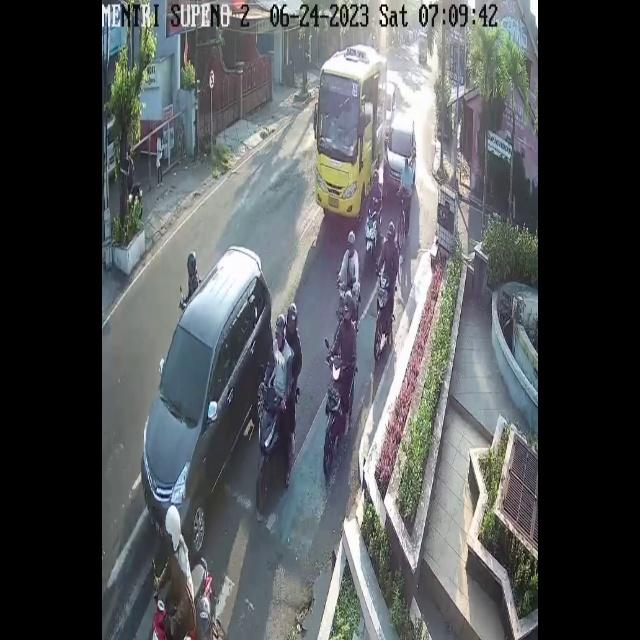bus: (144, 555, 219, 640), (254, 383, 300, 504), (323, 354, 354, 476), (375, 274, 394, 361), (334, 276, 362, 328), (363, 202, 383, 270)
car: (316, 42, 386, 223)
motorcycle: (141, 243, 275, 554), (382, 112, 414, 200)
